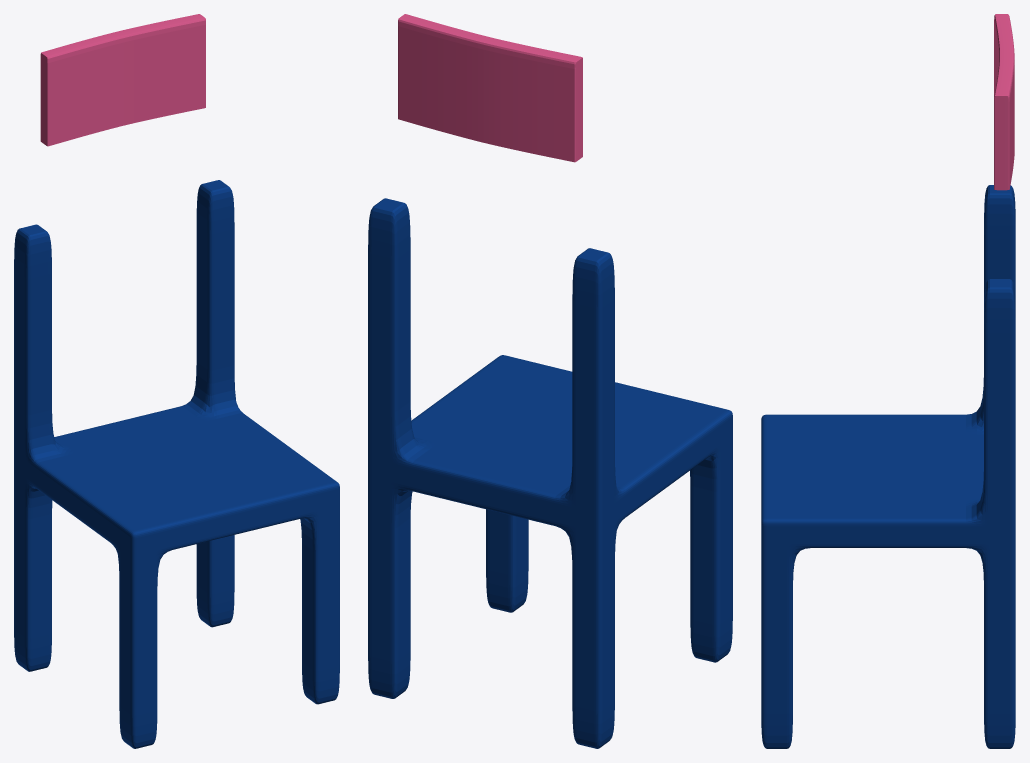
File: sm_chair_high.obj
3 views of the same model, side by side, from view 1: azimuth 30°, elevation 25°; view 2: azimuth 150°, elevation 25°; view 3: azimuth 270°, elevation 25° (orthographic). The views are drawn at different scales.
Visible parts, largest first — view 1: Plane001, Plane002; view 2: Plane001, Plane002; view 3: Plane001, Plane002.
Part boxes in pixels (x1=…): Plane001: x1=14, y1=180, x2=339, y2=748; Plane002: x1=40, y1=14, x2=205, y2=146; Plane001: x1=368, y1=198, x2=732, y2=748; Plane002: x1=398, y1=14, x2=582, y2=162; Plane001: x1=761, y1=185, x2=1015, y2=748; Plane002: x1=994, y1=14, x2=1014, y2=190.
Size of the model in its own units: 8 by 22.28 by 8.
